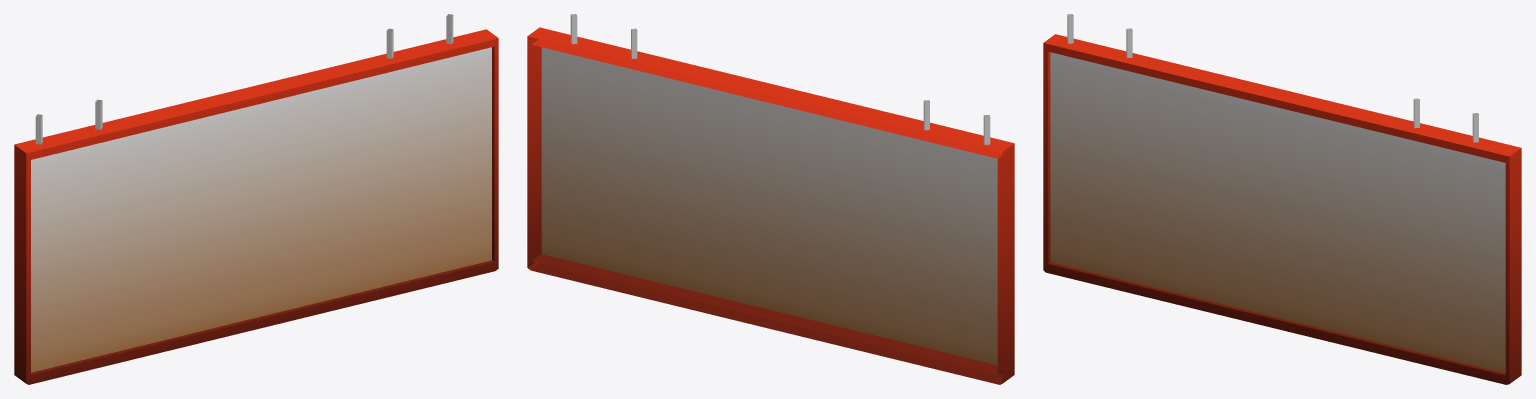
Rendered from Pancarte_Ui.fbx.
The picture shows the model from 3 angles, left to right: view 1: azimuth 30°, elevation 25°; view 2: azimuth 150°, elevation 25°; view 3: azimuth 330°, elevation 25°; orthographic projection.
Visible parts, largest first — view 1: Cube.169, Cube.168; view 2: Cube.169, Cube.168; view 3: Cube.169, Cube.168.
Part boxes in pixels (x1=…): Cube.169: x1=31, y1=47, x2=491, y2=372; Cube.168: x1=14, y1=29, x2=498, y2=384; Cube.169: x1=541, y1=47, x2=997, y2=365; Cube.168: x1=527, y1=27, x2=1014, y2=384; Cube.169: x1=1050, y1=52, x2=1505, y2=373; Cube.168: x1=1043, y1=34, x2=1521, y2=384.
Bounding box in the file's own units: 134 × 70.15 × 5.95.
